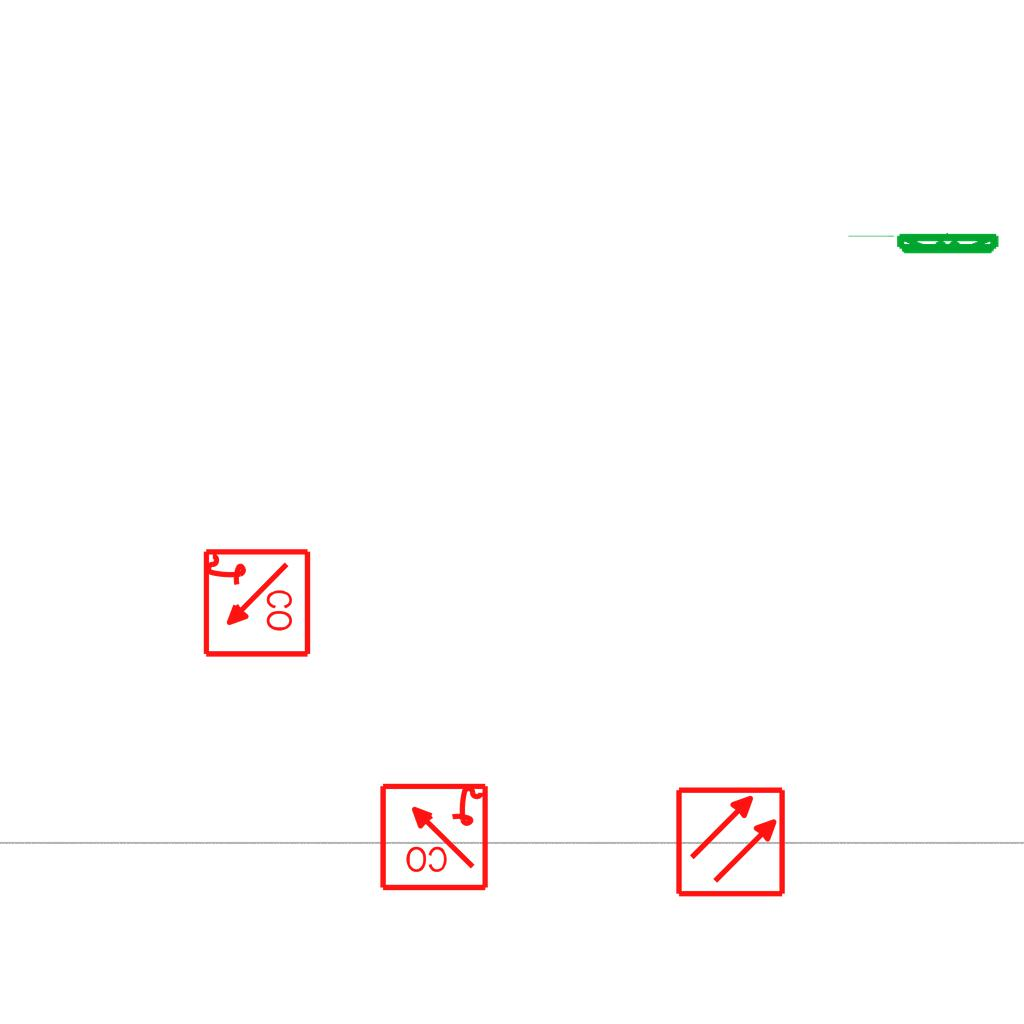RMO_Rauchmelder_optischer: (674, 785, 787, 898)
ROA_Rauchmelder_optisch_mit_Signalgeber_(Sockelsirene): (199, 547, 312, 660), (377, 779, 490, 892)
Sicherheitsleuchte_Wandeinbau: (843, 232, 1002, 257)
